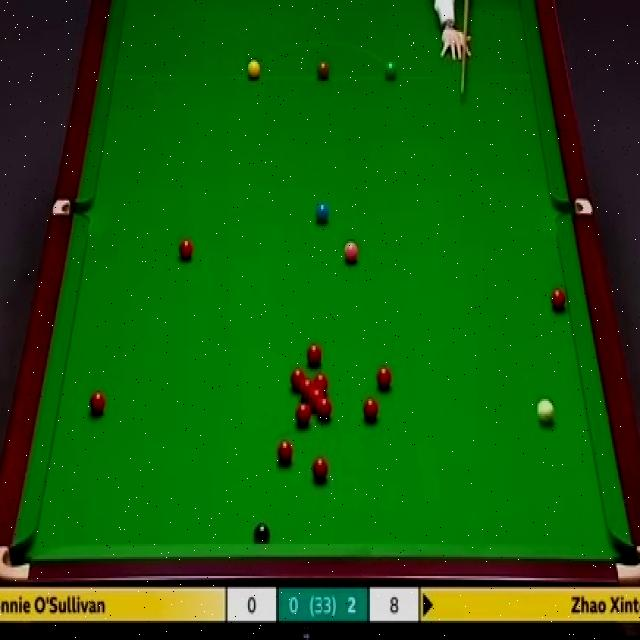black-ball: (254, 524, 272, 545)
blue-ball: (315, 200, 329, 228)
brown-ball: (316, 60, 330, 80)
green-ball: (384, 60, 398, 80)
pink-ball: (344, 243, 359, 266)
red-ball: (86, 388, 105, 416), (275, 438, 292, 468), (304, 343, 324, 367), (312, 456, 329, 484), (549, 288, 567, 314), (289, 366, 307, 392), (374, 367, 393, 390), (362, 398, 379, 423), (315, 400, 333, 423), (295, 402, 311, 427), (313, 374, 329, 399), (299, 379, 316, 402), (178, 241, 194, 260), (309, 390, 323, 408)
white-ball: (538, 396, 554, 424)
yellow-ball: (246, 60, 261, 80)
